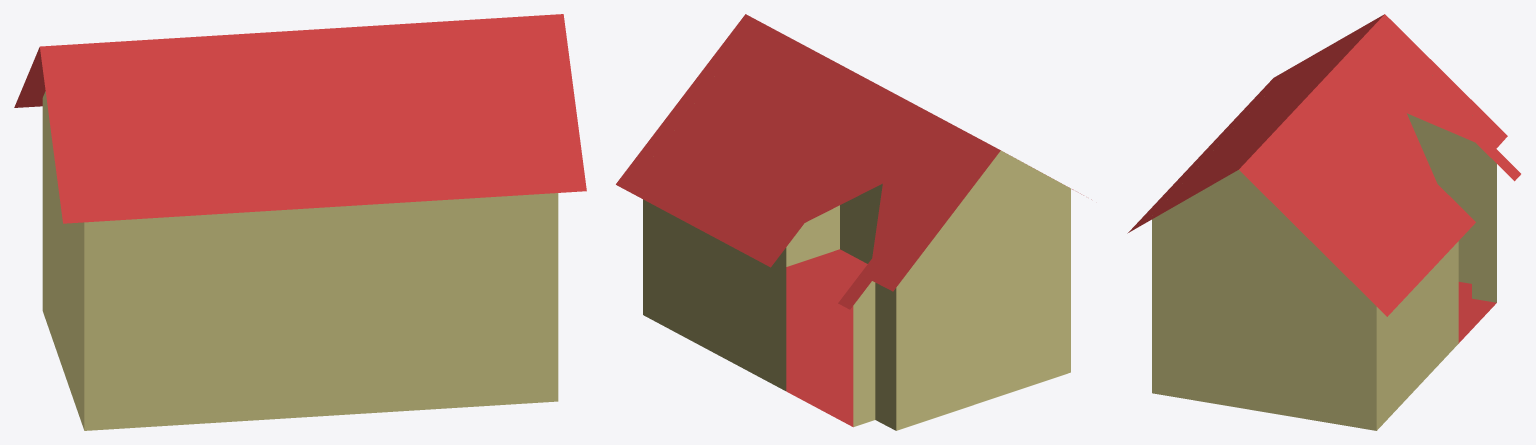
3 renders of one model, left to right at view 1: azimuth 30°, elevation 25°; view 2: azimuth 150°, elevation 25°; view 3: azimuth 270°, elevation 25°, orthographic. The views are drawn at different scales.
Size of the model in its own units: 24.91 by 20.82 by 14.38.
